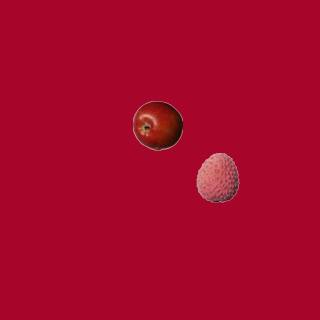Apple Braeburn: (132, 100, 182, 150)
Lychee: (192, 152, 242, 202)
